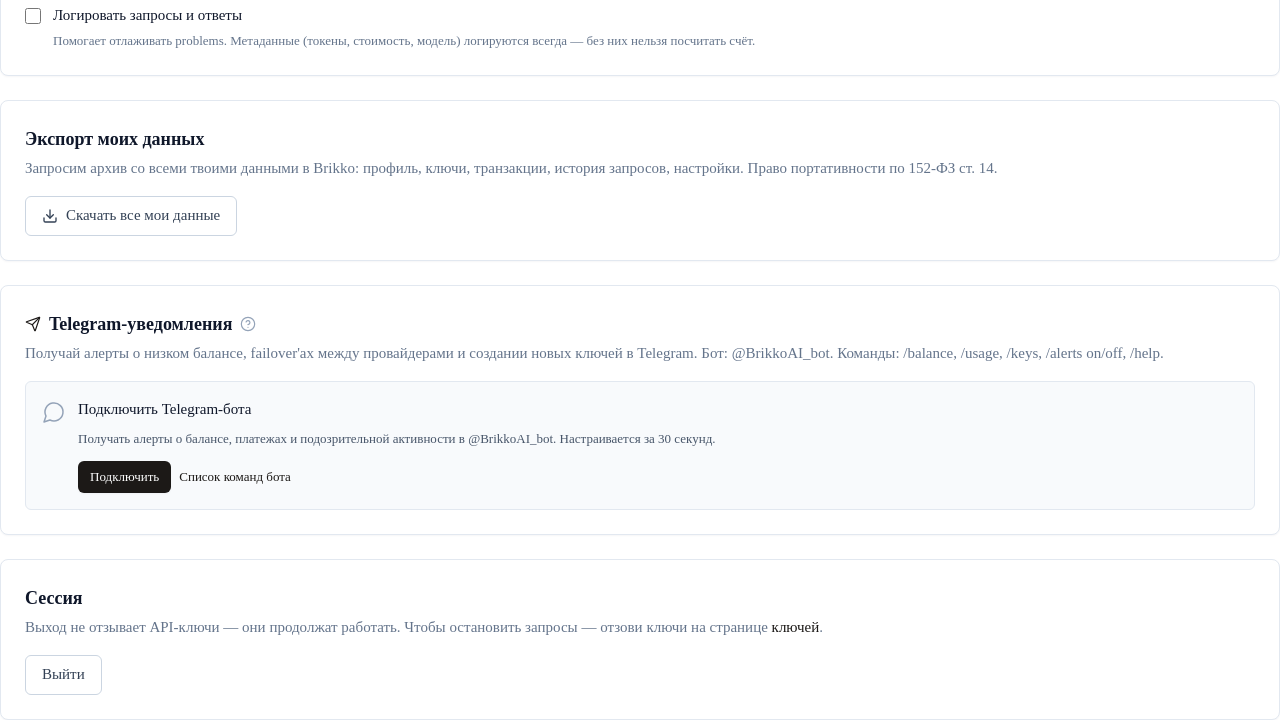
Scenario: <SettingsPage> Telegram-секция › не подключён — кнопка «Подключить Telegram» вызывает linkTelegram
(page scrolled)
Click the button with test id "telegram-link-button" at (125, 477), box [78,461,171,493]
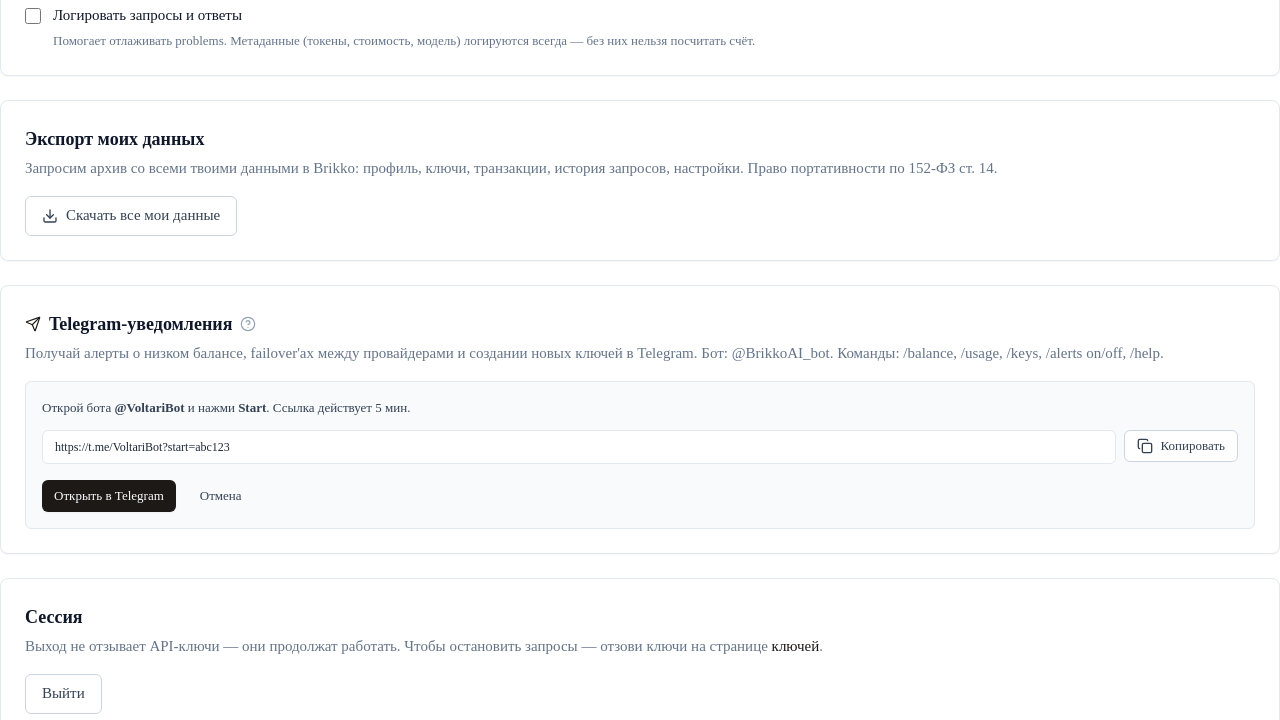
Expected: the text with test id "telegram-deep-link" reads "https://t.me/VoltariBot?start=abc123", [55,440,230,454]
